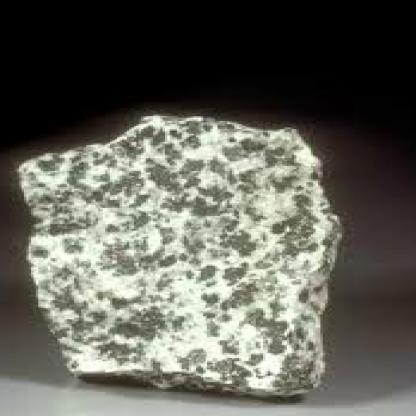Igneous_Diorite: (16, 105, 340, 403)
